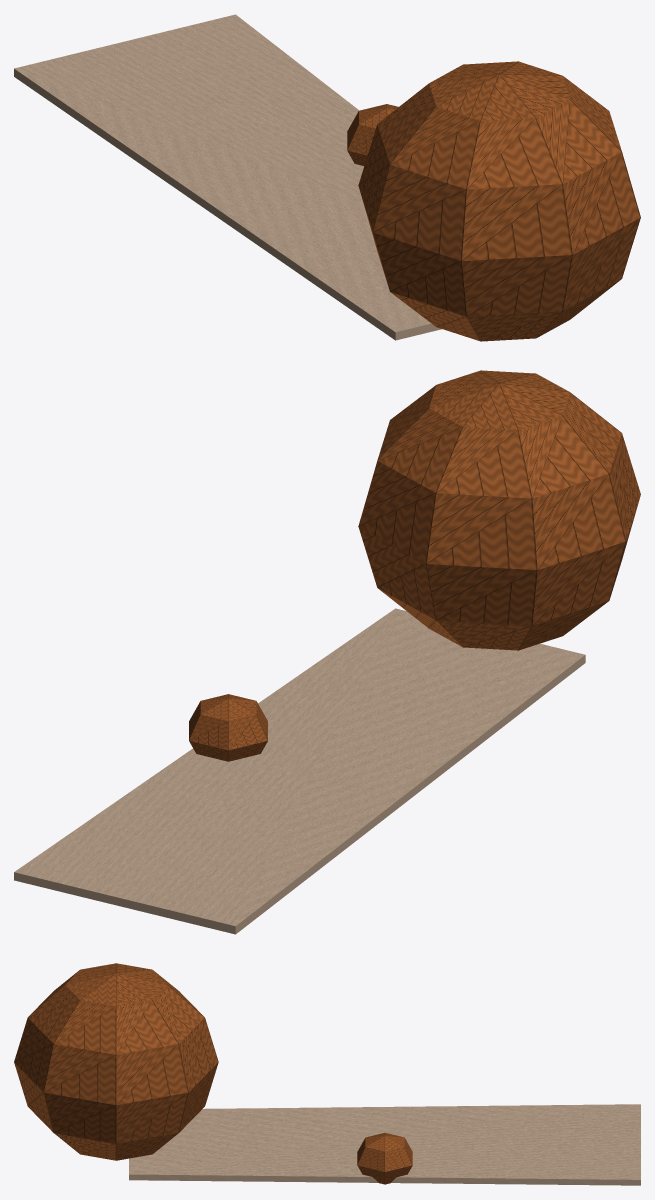
File: safari-camp-and-bush-lodge-dung-beetle-ball-0f9e87ea__37719.glb
3 renders of one model, top to bottom at view 1: azimuth 30°, elevation 25°; view 2: azimuth 150°, elevation 25°; view 3: azimuth 270°, elevation 25°, orthographic. The views are drawn at different scales.
Visible parts, largest first — view 1: dung-beetle-ball-timber, dung-beetle-ball-earth; view 2: dung-beetle-ball-earth, dung-beetle-ball-timber; view 3: dung-beetle-ball-earth, dung-beetle-ball-timber.
Part boxes in pixels (<box>): dung-beetle-ball-timber: <box>347,61,640,341</box>; dung-beetle-ball-earth: <box>14,14,441,340</box>; dung-beetle-ball-earth: <box>14,608,585,934</box>; dung-beetle-ball-timber: <box>189,370,640,761</box>; dung-beetle-ball-earth: <box>129,1104,640,1185</box>; dung-beetle-ball-timber: <box>14,963,412,1184</box>.
Bounding box in the file's own units: 0.32 × 0.3136 × 0.98.
Materials: 2 (2 with a texture image).
